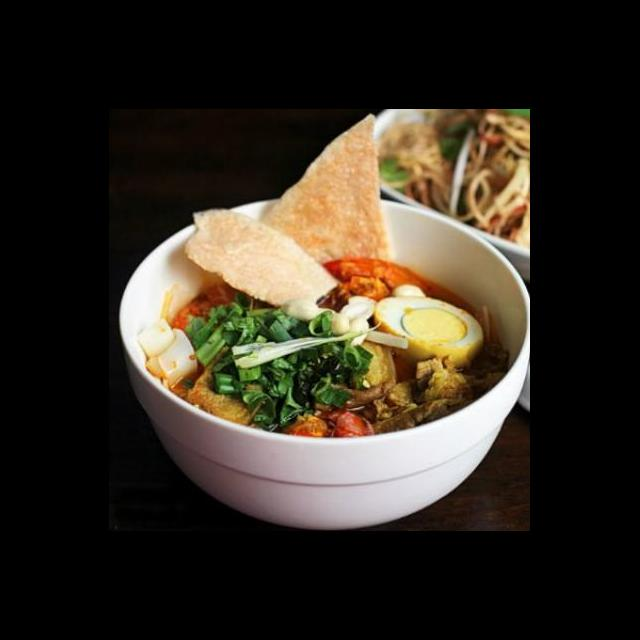banh da: (256, 112, 394, 278), (182, 204, 342, 322)
mi: (136, 313, 202, 398)
thit heo: (366, 354, 504, 441)
tom: (322, 254, 434, 307), (278, 405, 371, 444)
trung: (368, 292, 487, 371)
